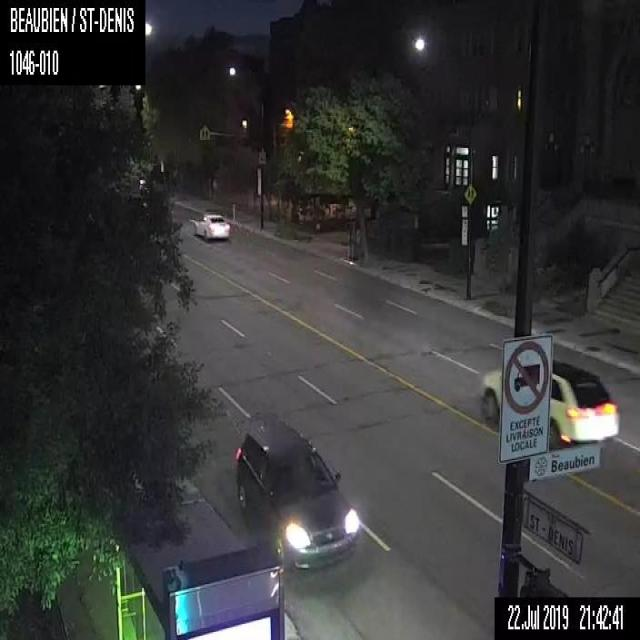vehicle: (234, 422, 360, 574), (481, 360, 618, 449), (189, 211, 232, 240)
